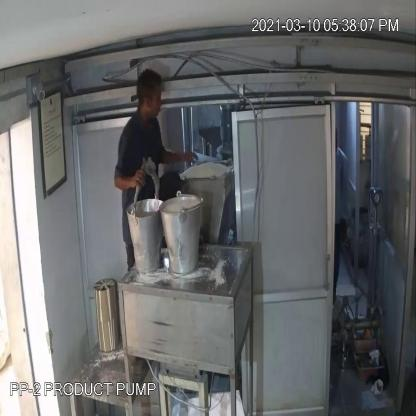no_glove: (157, 135, 208, 187), (113, 158, 145, 197)
